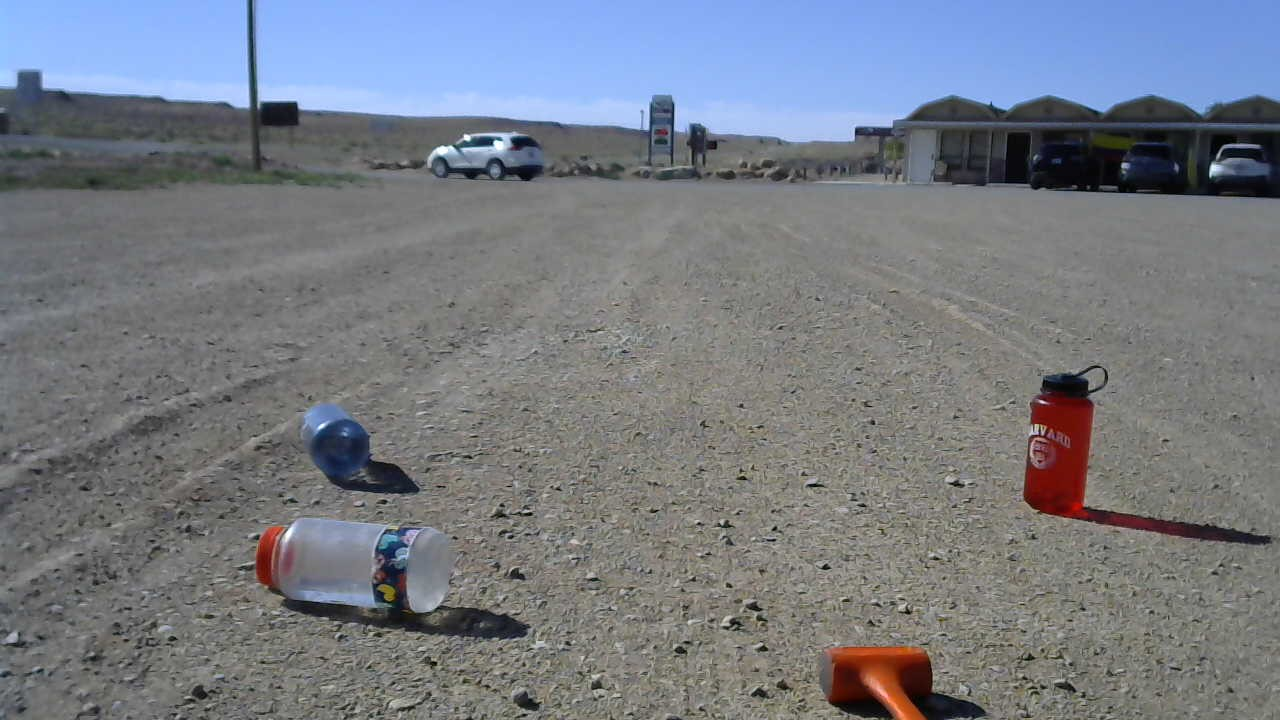bottle: (251, 507, 456, 619), (1023, 352, 1109, 519), (293, 401, 379, 480)
hammer: (819, 642, 937, 720)
